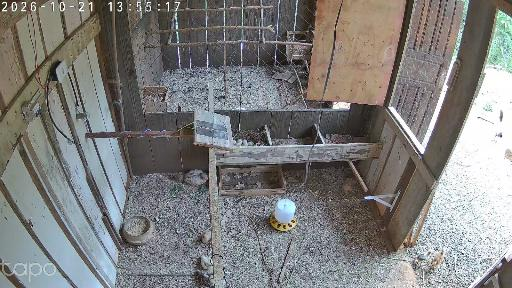frango: (179, 168, 207, 185)
pintinho: (415, 250, 431, 268), (195, 271, 210, 284), (433, 251, 446, 265), (200, 255, 213, 268), (200, 232, 212, 242)
